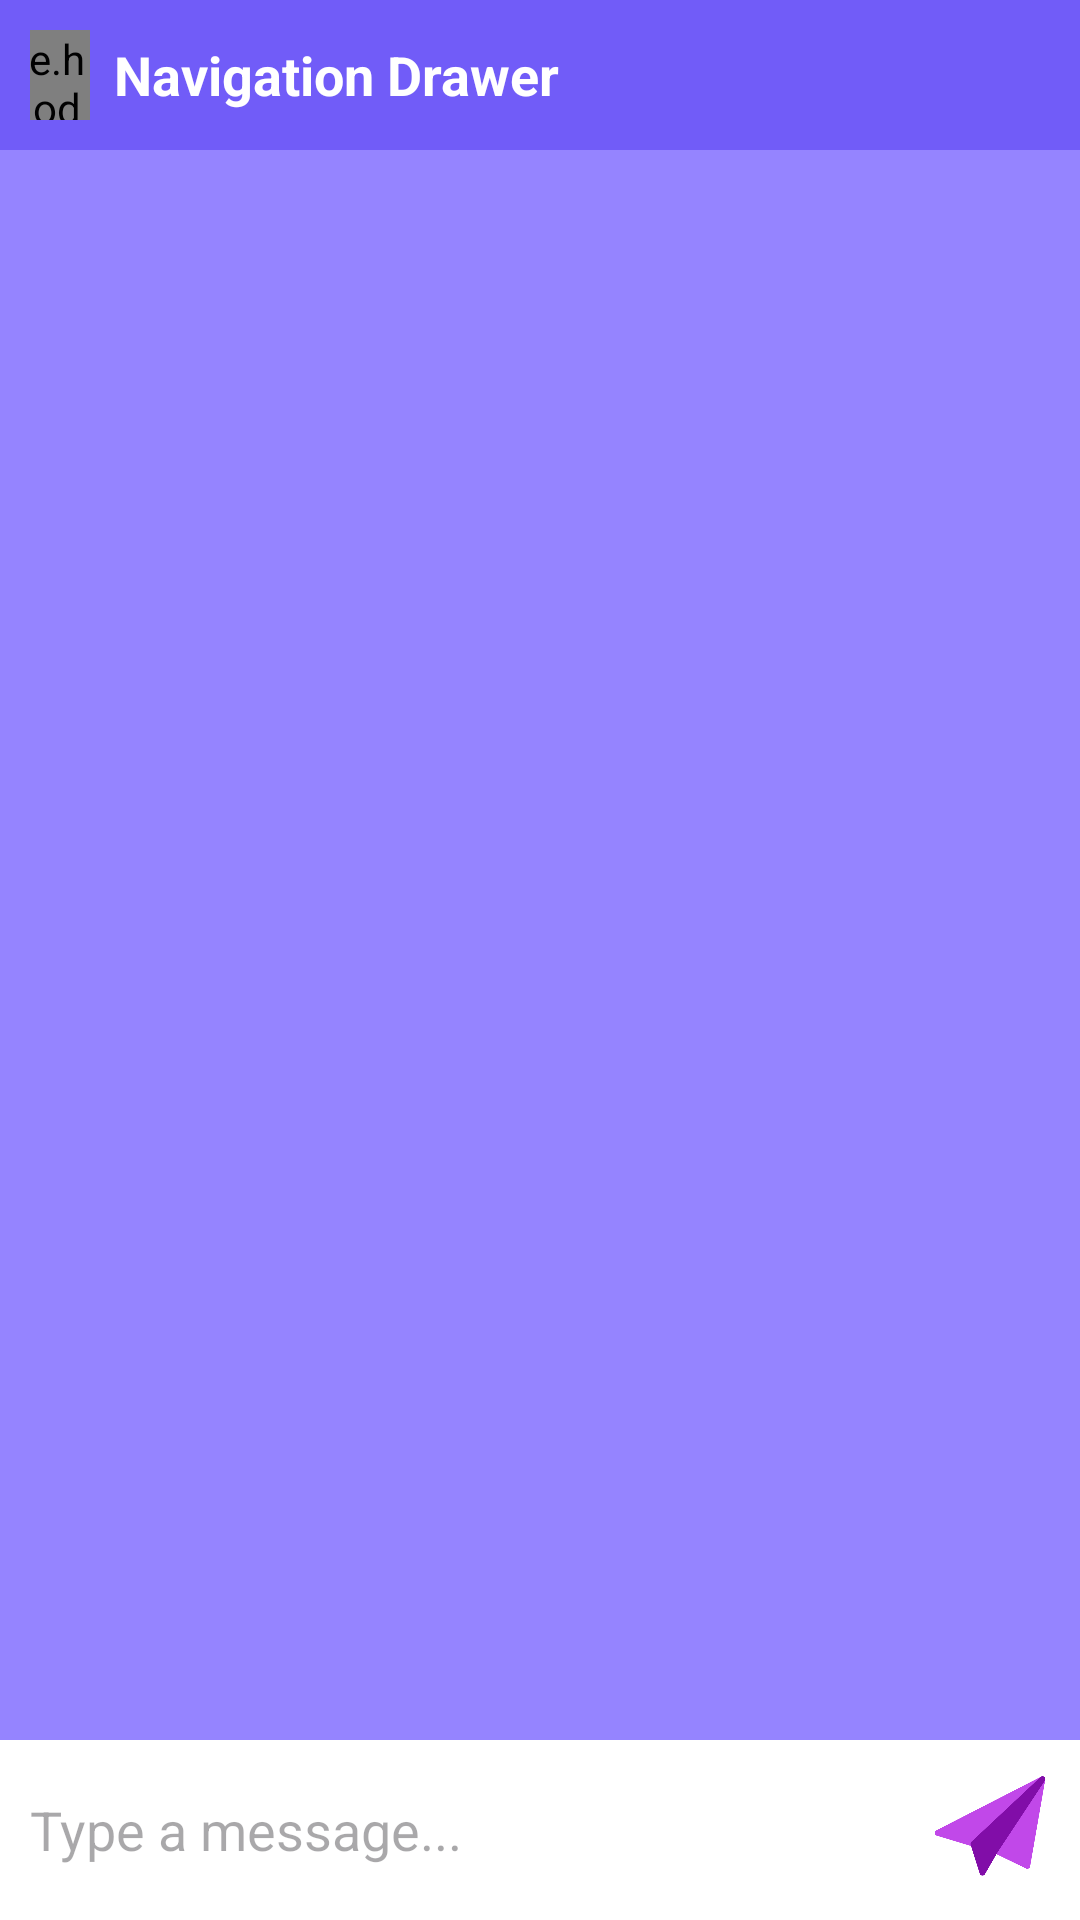

Locate icon controls on the screen. Image size 1080x1920, boxes as (x1, y1, x2, y2).
sendicon: (935, 1776, 1045, 1876)
